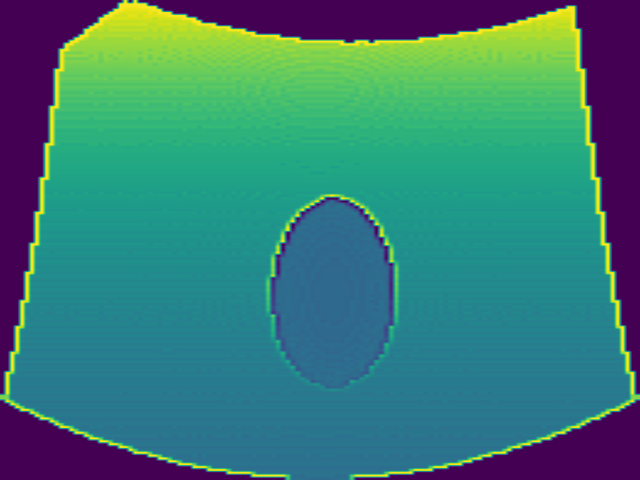sphere: (265, 194, 398, 387)
